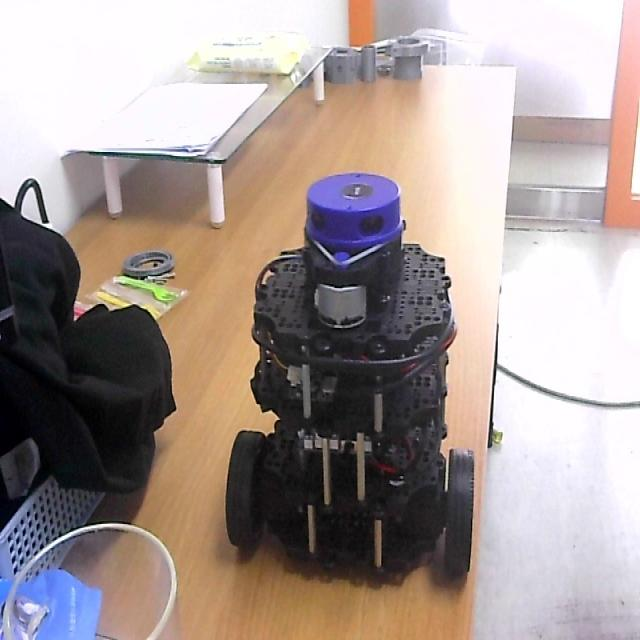turtle: (224, 170, 476, 586)
